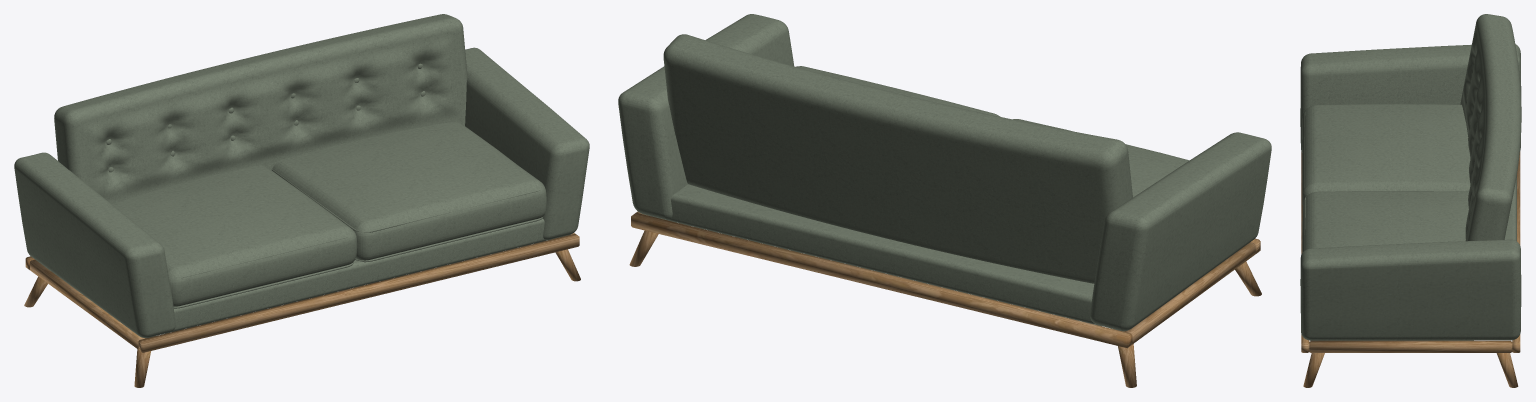
Rendered from tufted-sage-sofa.glb.
3 renders of one model, left to right at view 1: azimuth 30°, elevation 25°; view 2: azimuth 150°, elevation 25°; view 3: azimuth 270°, elevation 25°, orthographic. The views are drawn at different scales.
Parts seen in each view (by area): view 1: backtuft, seat1, seat0, armL, armR, base, basefront, baseside0, seatpipe11, seatpipe00, seatpipe10; view 2: backtuft, armL, base, armR, baseback, baseside0, seat0, seat1, leg2; view 3: armR, seat0, backtuft, armL, seat1, baseside1, baseback, base, leg1, leg3, basefront.
Boxes of the visible parts, x1,y1,x2,y2 form: backtuft: (54, 14, 467, 204); seat1: (272, 122, 546, 260); seat0: (112, 165, 357, 306); armL: (14, 152, 175, 337); armR: (465, 47, 589, 240); base: (171, 218, 548, 332); basefront: (138, 233, 579, 352); baseside0: (30, 259, 144, 349); seatpipe11: (271, 169, 540, 232); seatpipe00: (173, 261, 353, 308); seatpipe10: (355, 217, 542, 262); backtuft: (663, 34, 1132, 283); armL: (1090, 132, 1271, 331); base: (668, 184, 1101, 326); armR: (618, 14, 794, 220); baseback: (631, 213, 1132, 348); baseside0: (1125, 242, 1255, 344); seat0: (1013, 119, 1189, 197); seat1: (796, 66, 1000, 116); leg2: (1118, 331, 1136, 387); armR: (1300, 239, 1521, 340); seat0: (1302, 104, 1470, 207); backtuft: (1460, 14, 1521, 241); armL: (1300, 44, 1521, 152); seat1: (1302, 191, 1468, 252); baseside1: (1309, 340, 1512, 352); baseback: (1512, 151, 1520, 352); base: (1504, 175, 1516, 240); leg1: (1303, 353, 1324, 387); leg3: (1496, 353, 1518, 387); basefront: (1301, 151, 1309, 352).
Size of the model in its own units: 2.09 by 0.848 by 0.9179.
2 materials, 2 textured.
